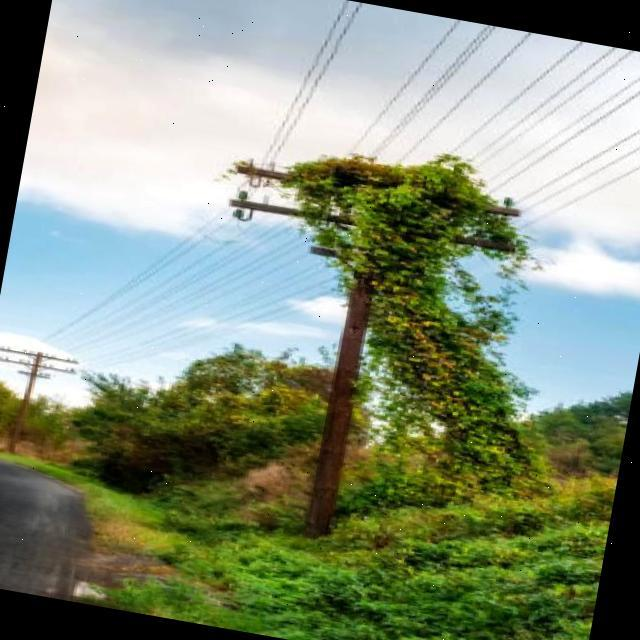critical vegetation: (263, 138, 532, 279), (328, 210, 409, 373)
